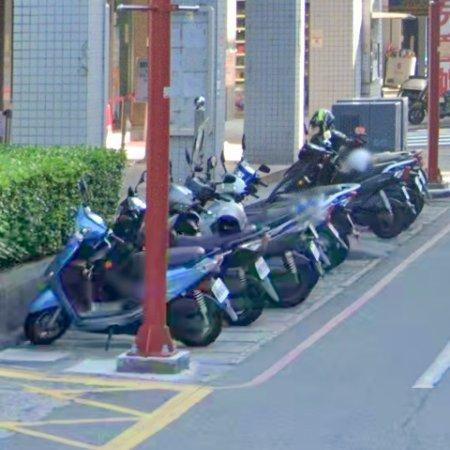motorcycles: (25, 208, 144, 345), (167, 247, 229, 346)
